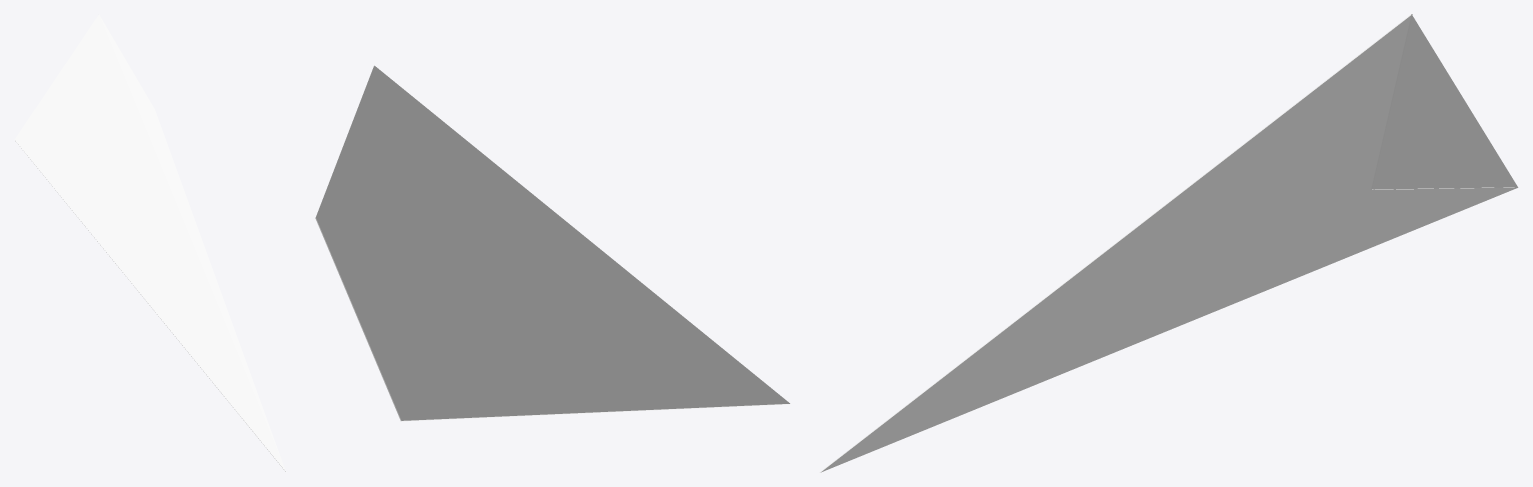
The model's file is smoke.glb.
The picture shows the model from 3 angles, left to right: view 1: azimuth 30°, elevation 25°; view 2: azimuth 150°, elevation 25°; view 3: azimuth 270°, elevation 25°; orthographic projection. The views are drawn at different scales.
Parts seen in each view (by area): view 1: Cube; view 2: Cube; view 3: Cube.
Boxes of the visible parts, left/top/right/bottom form: Cube: left=14, top=14, right=286, bottom=472; Cube: left=315, top=65, right=790, bottom=421; Cube: left=819, top=14, right=1518, bottom=472.
Size of the model in its own units: 0.2389 by 0.7737 by 1.05.
1 material, 1 textured.
